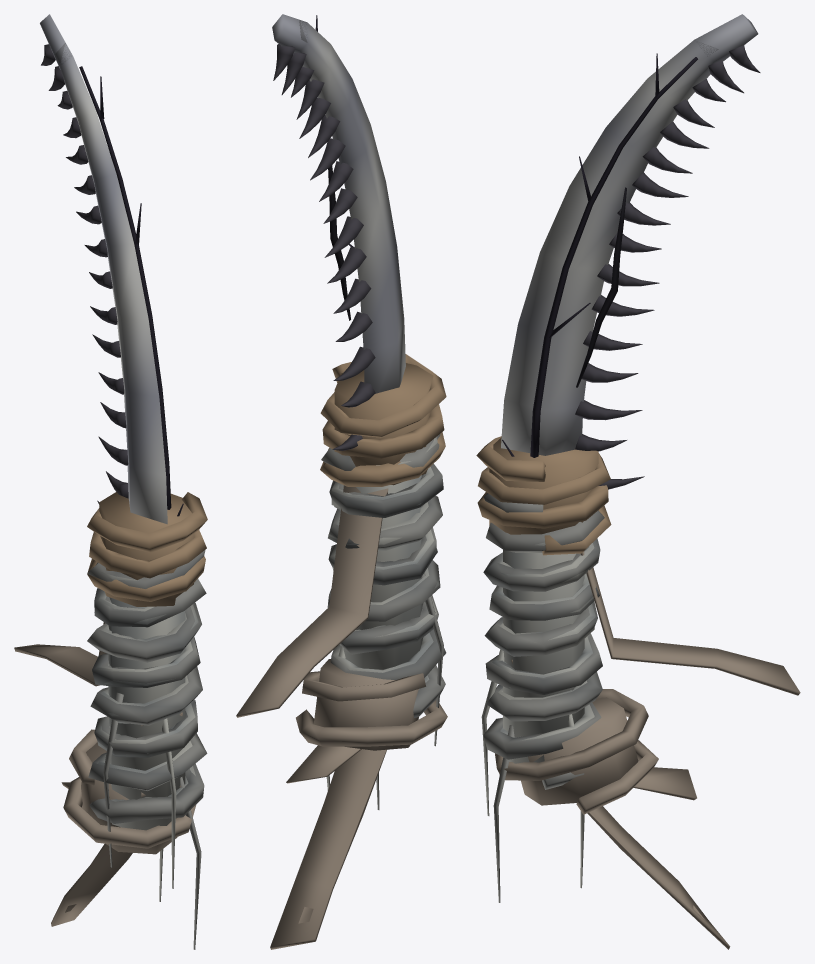
The model's file is wpn_blackvein_jaw_shears.glb.
3 views of the same model, side by side, from view 1: azimuth 30°, elevation 25°; view 2: azimuth 150°, elevation 25°; view 3: azimuth 270°, elevation 25° (orthographic). The views are drawn at different scales.
Visible parts, largest first — view 1: wpn_blackvein_jaw_shears, wpn_blackvein_jaw_shears_worn; view 2: wpn_blackvein_jaw_shears_worn, wpn_blackvein_jaw_shears; view 3: wpn_blackvein_jaw_shears, wpn_blackvein_jaw_shears_worn.
Part boxes in pixels (x1,y1,x2,y2): wpn_blackvein_jaw_shears: [40, 14, 207, 901]; wpn_blackvein_jaw_shears_worn: [14, 43, 207, 949]; wpn_blackvein_jaw_shears_worn: [236, 20, 447, 949]; wpn_blackvein_jaw_shears: [272, 14, 446, 790]; wpn_blackvein_jaw_shears: [476, 14, 760, 888]; wpn_blackvein_jaw_shears_worn: [483, 40, 800, 949].
Size of what is drawn, in the model's own units: 0.0525 by 0.3748 by 0.1188.
